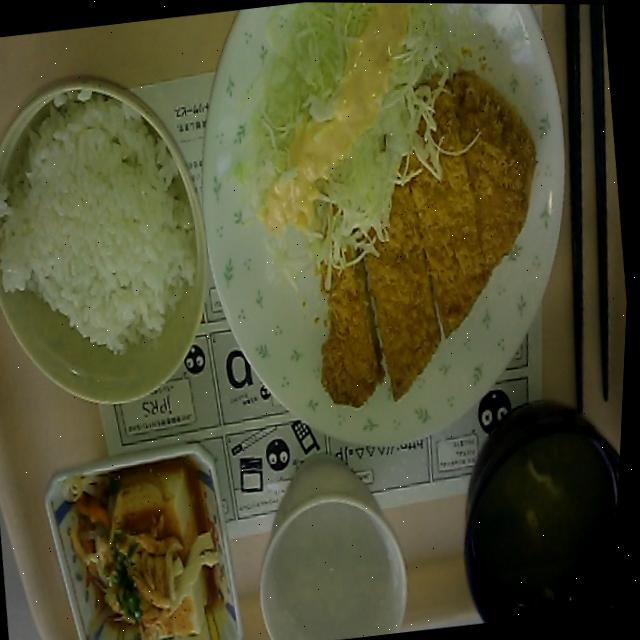汤锅炖物: (438, 387, 627, 626)
米饭主食: (0, 62, 240, 418)
蔬菜料理: (202, 1, 471, 256)
